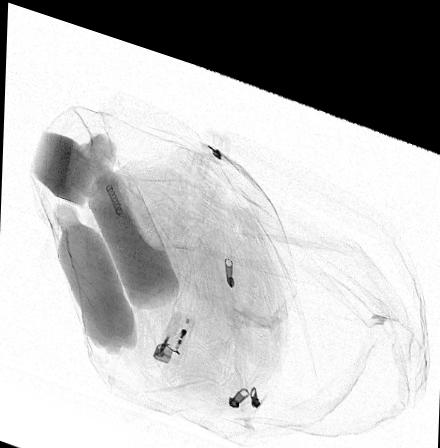Lighter: (152, 294, 195, 355)
